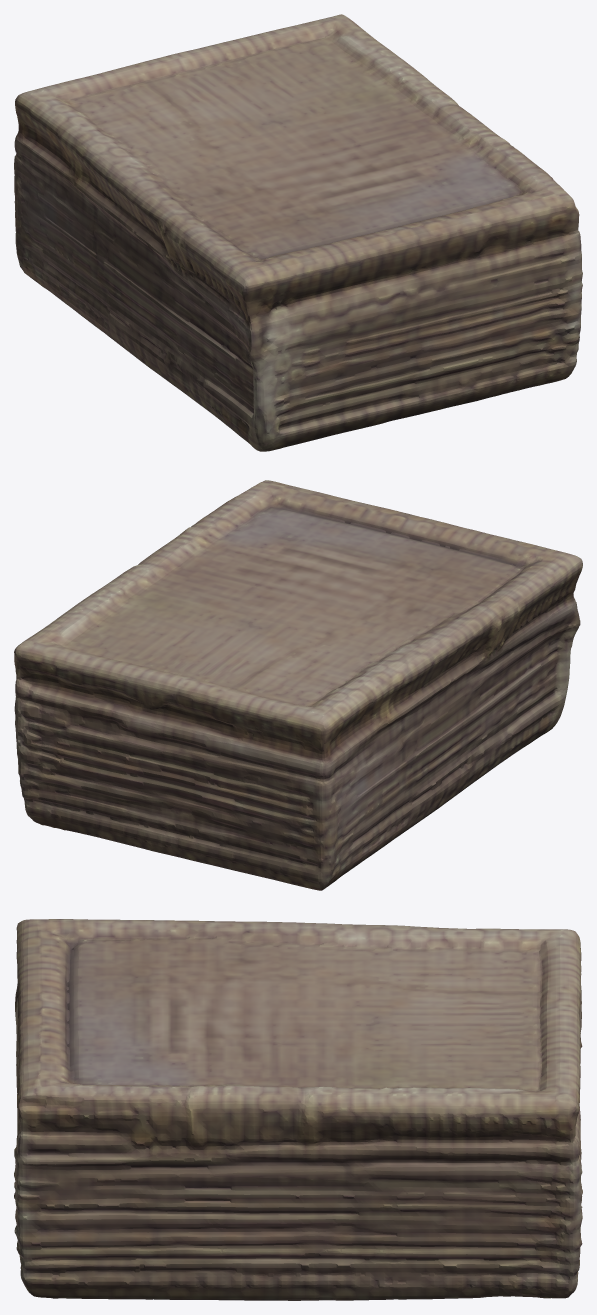
3 views of the same model, one above another, from view 1: azimuth 30°, elevation 25°; view 2: azimuth 150°, elevation 25°; view 3: azimuth 270°, elevation 25° (orthographic). The views are drawn at different scales.
Parts seen in each view (by area): view 1: world; view 2: world; view 3: world.
Boxes of the visible parts, x1,y1,x2,y2 form: world: (14, 14, 582, 451); world: (14, 480, 582, 890); world: (14, 919, 582, 1300).
Size of the model in its own units: 0.3857 by 0.2011 by 0.4825.
